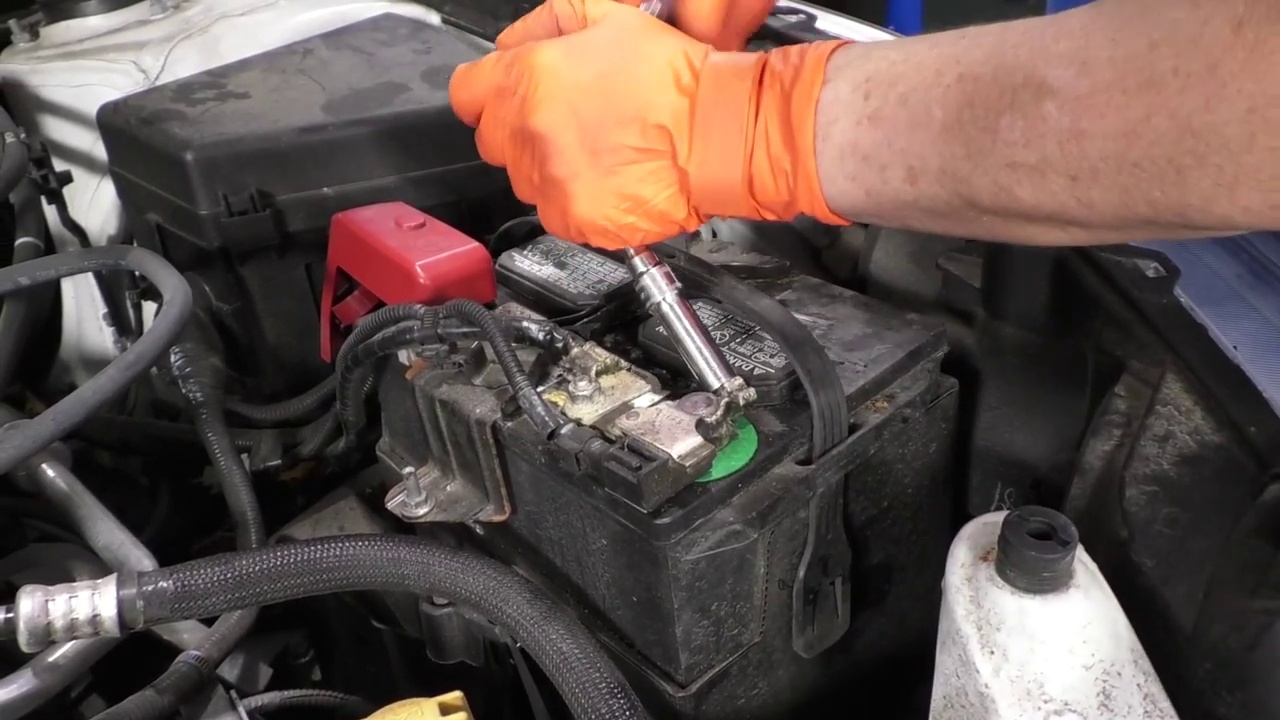battery: (324, 186, 966, 525)
neg_connected: (587, 343, 744, 506)
pos_connected: (322, 181, 505, 359)
